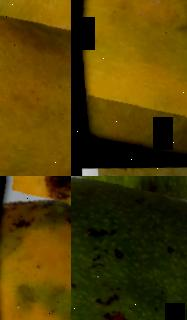PartiallyRipe: (71, 0, 187, 170), (0, 0, 71, 176)
Ripe: (0, 176, 71, 320)
Unripe: (71, 176, 187, 320)
